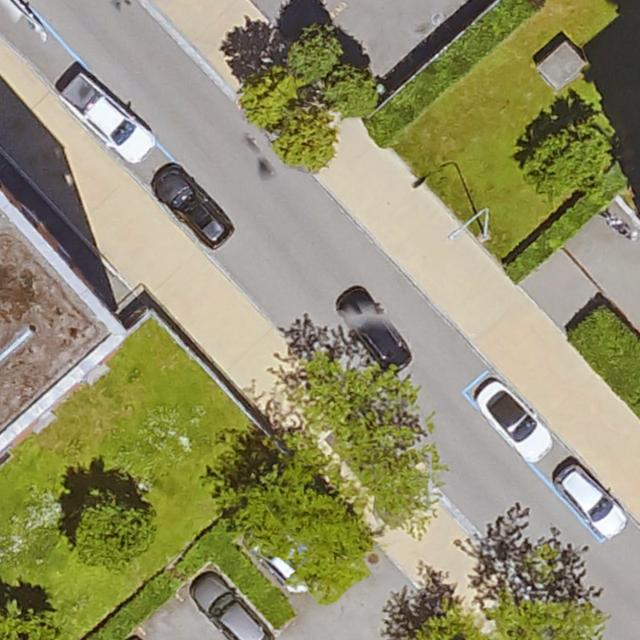tree: (275, 341, 426, 515), (226, 474, 373, 599), (491, 532, 607, 640), (524, 122, 621, 200), (70, 490, 156, 569), (277, 105, 340, 169), (283, 24, 343, 86), (238, 67, 297, 128), (323, 66, 381, 117), (413, 599, 478, 640), (0, 599, 60, 640)
